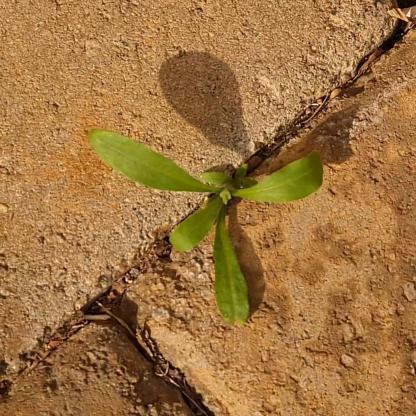Weeds: (90, 128, 326, 328)
